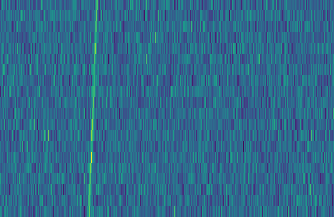signal: (82, 0, 100, 217)
